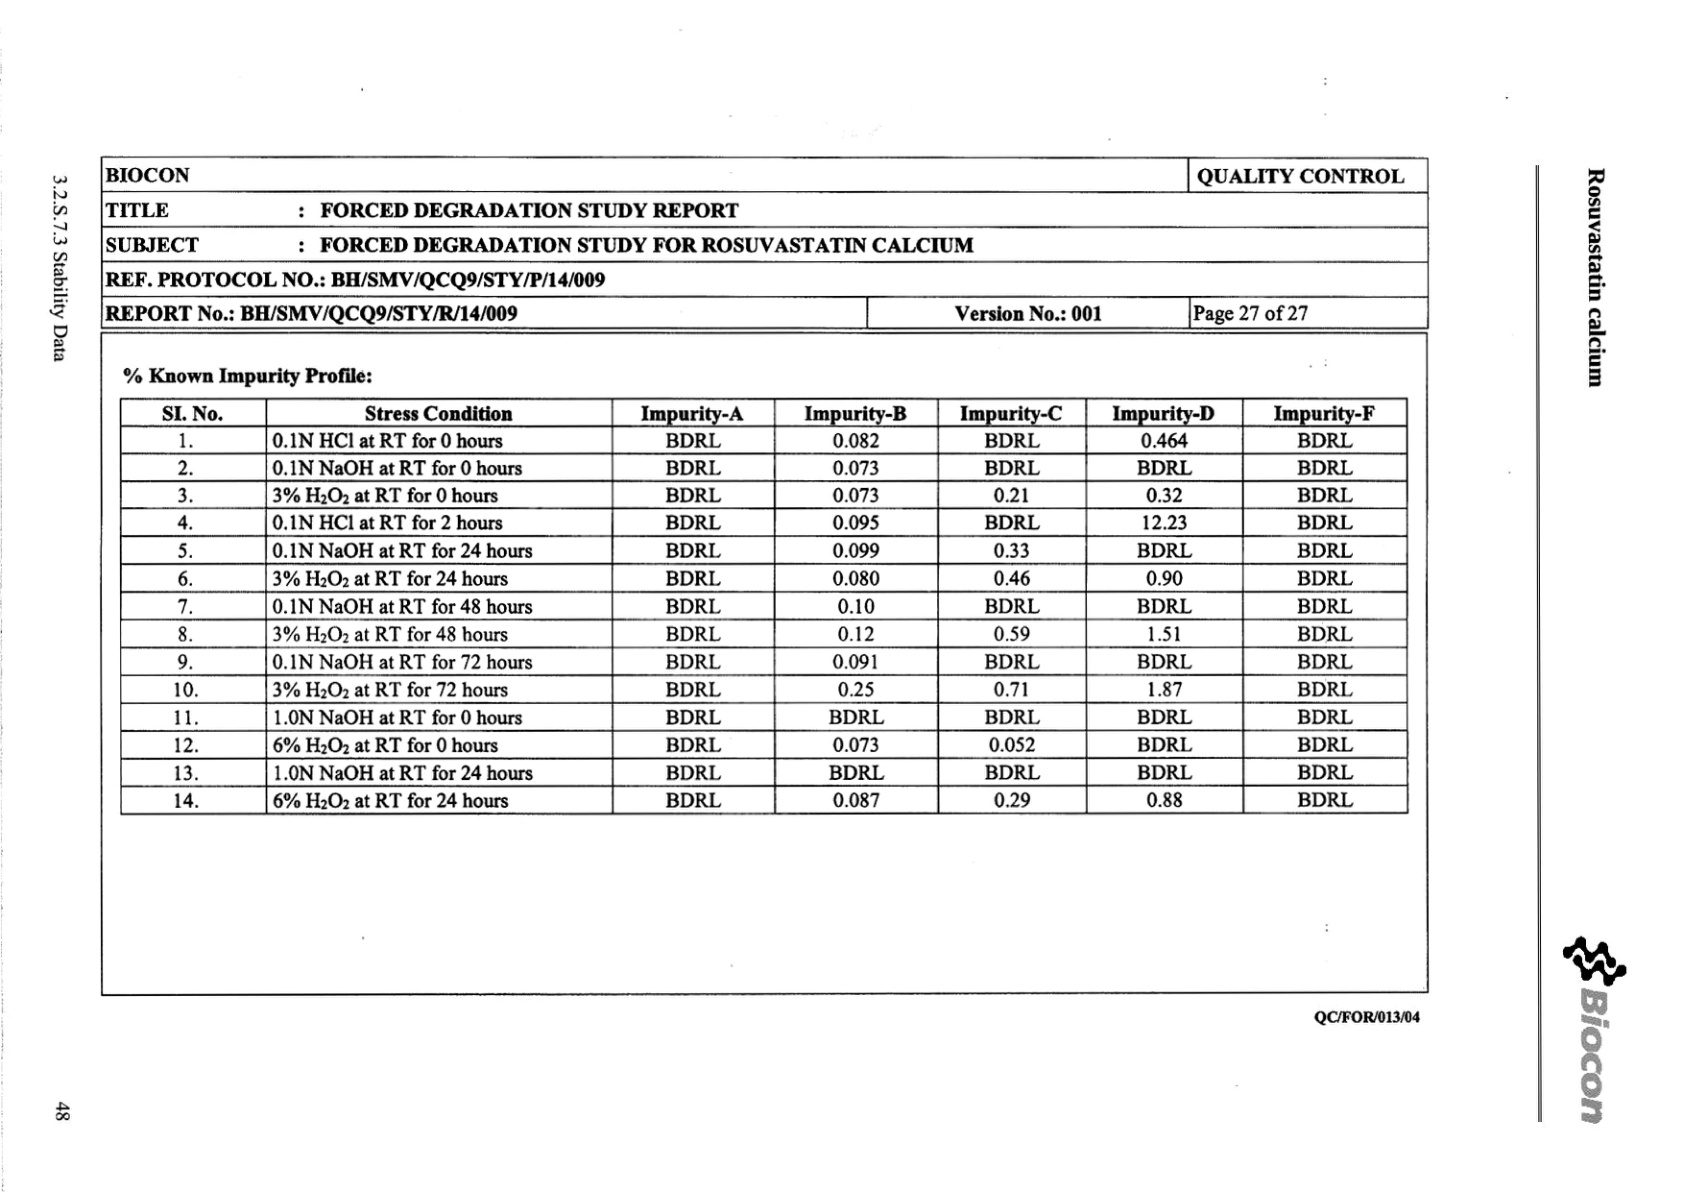full_lined: (117, 396, 1411, 817)
merged_cells: (101, 155, 1430, 330)
